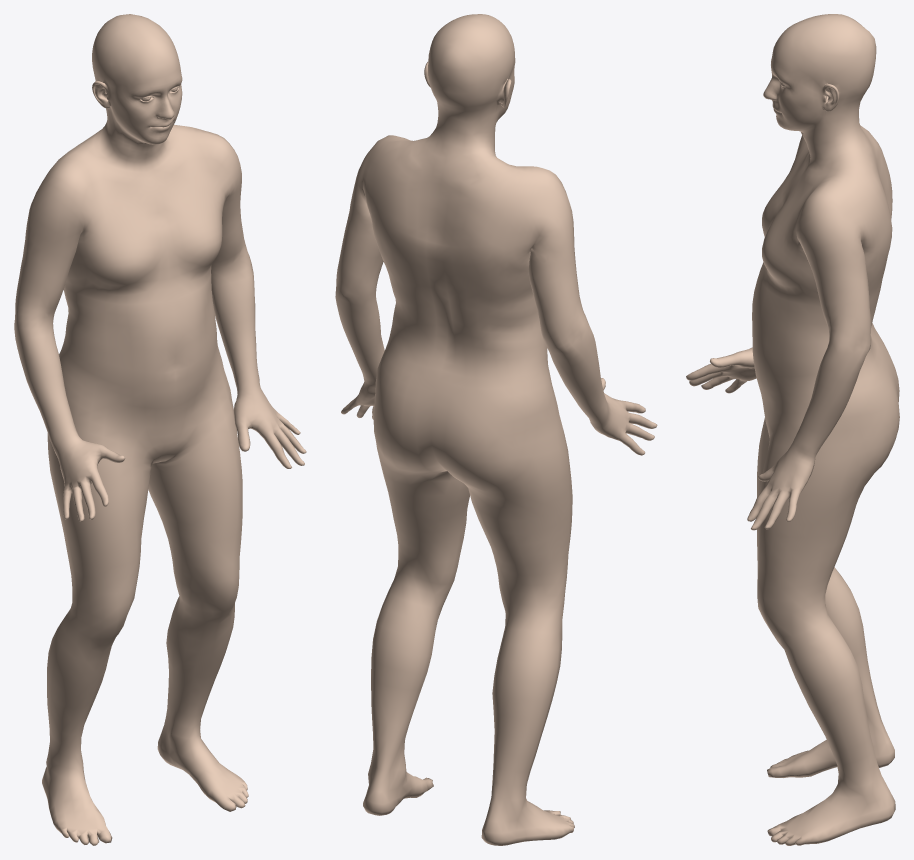
File: WORD-01217.glb
3 views of the same model, side by side, from view 1: azimuth 30°, elevation 25°; view 2: azimuth 150°, elevation 25°; view 3: azimuth 270°, elevation 25° (orthographic). The views are drawn at different scales.
Bounding box in the file's own units: 0.6054 × 1.72 × 0.4228.
